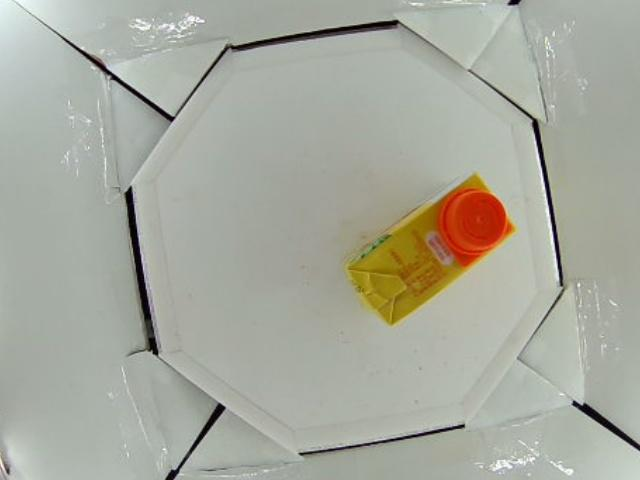Bottle: (345, 175, 519, 325)
